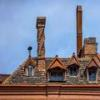chimneys: (36, 16, 46, 70)
